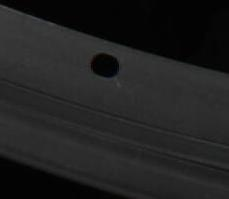holes: (89, 51, 120, 78)
